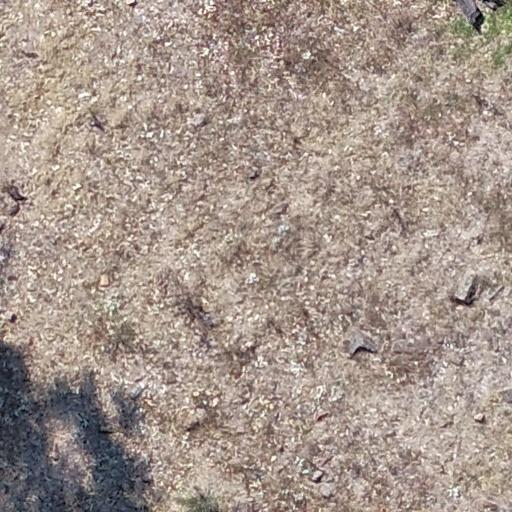stone: (455, 271, 480, 304), (348, 331, 376, 356), (462, 0, 484, 25), (193, 113, 211, 127), (450, 352, 466, 367), (247, 163, 261, 179), (2, 310, 20, 322), (318, 484, 333, 498), (314, 409, 329, 423), (312, 469, 324, 482), (100, 273, 110, 288), (473, 412, 486, 422), (122, 0, 137, 8), (142, 472, 154, 482)
